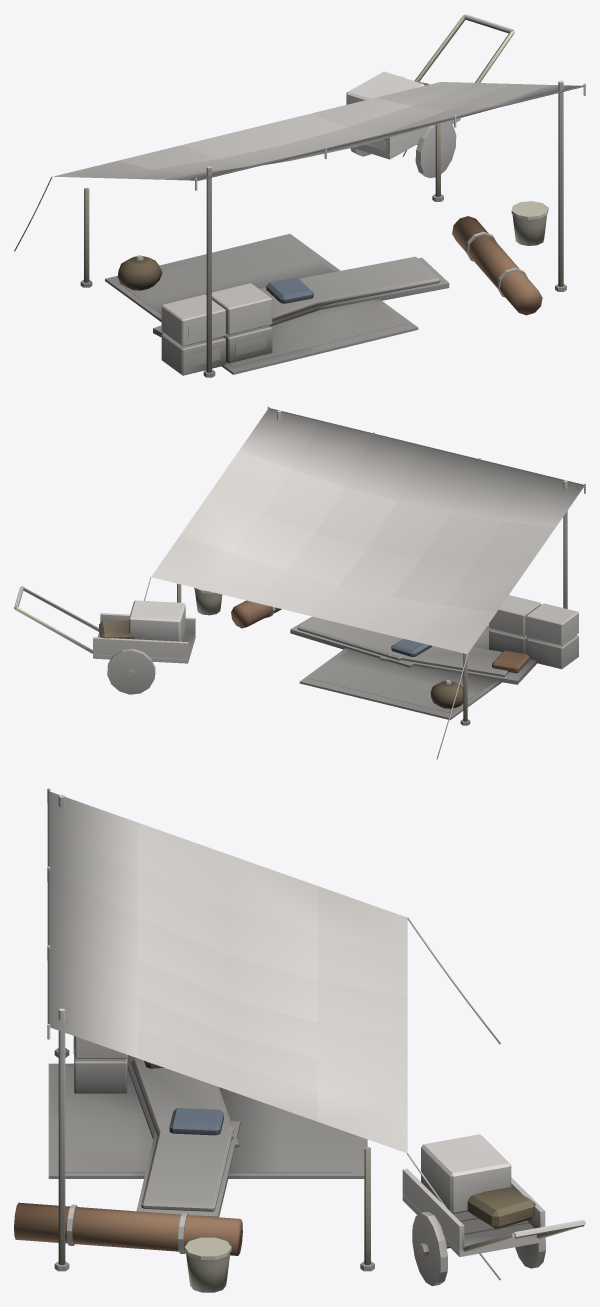
File: camp_a.glb
3 renders of one model, top to bottom at view 1: azimuth 30°, elevation 25°; view 2: azimuth 150°, elevation 25°; view 3: azimuth 270°, elevation 25°, orthographic. The views are drawn at different scales.
Parts seen in each view (by area): view 1: camp_a; view 2: camp_a; view 3: camp_a.
Part boxes in pixels (left/top/right/bottom): camp_a: left=14, top=14, right=585, bottom=377; camp_a: left=14, top=406, right=585, bottom=759; camp_a: left=14, top=788, right=585, bottom=1292.
Size of the model in its own units: 5.51 by 2.16 by 4.3.
